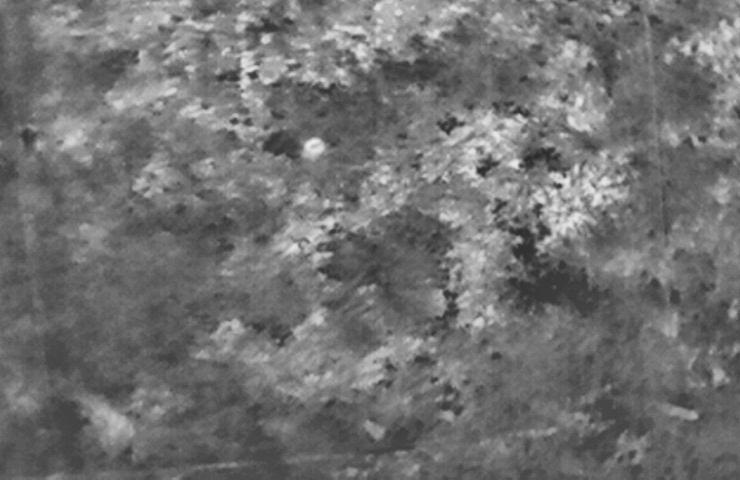landmines: (302, 135, 329, 164)
